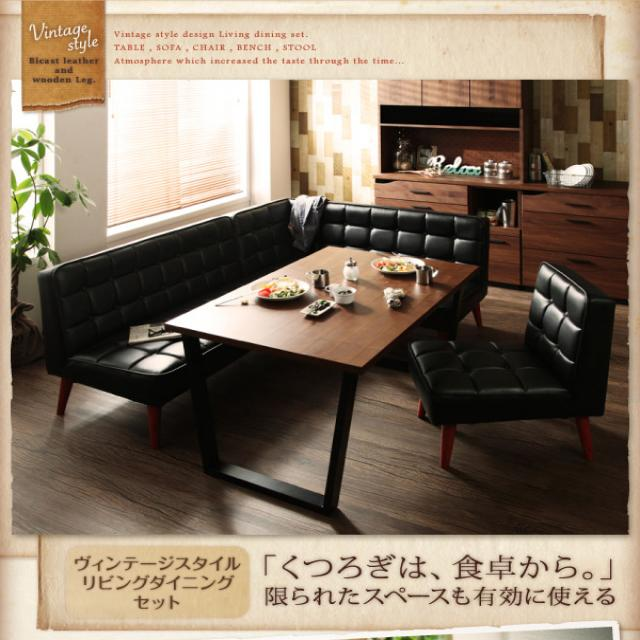vintage chair: (410, 260, 606, 476)
vintage desk: (160, 241, 477, 517)
vintage sofa: (38, 192, 493, 439)
